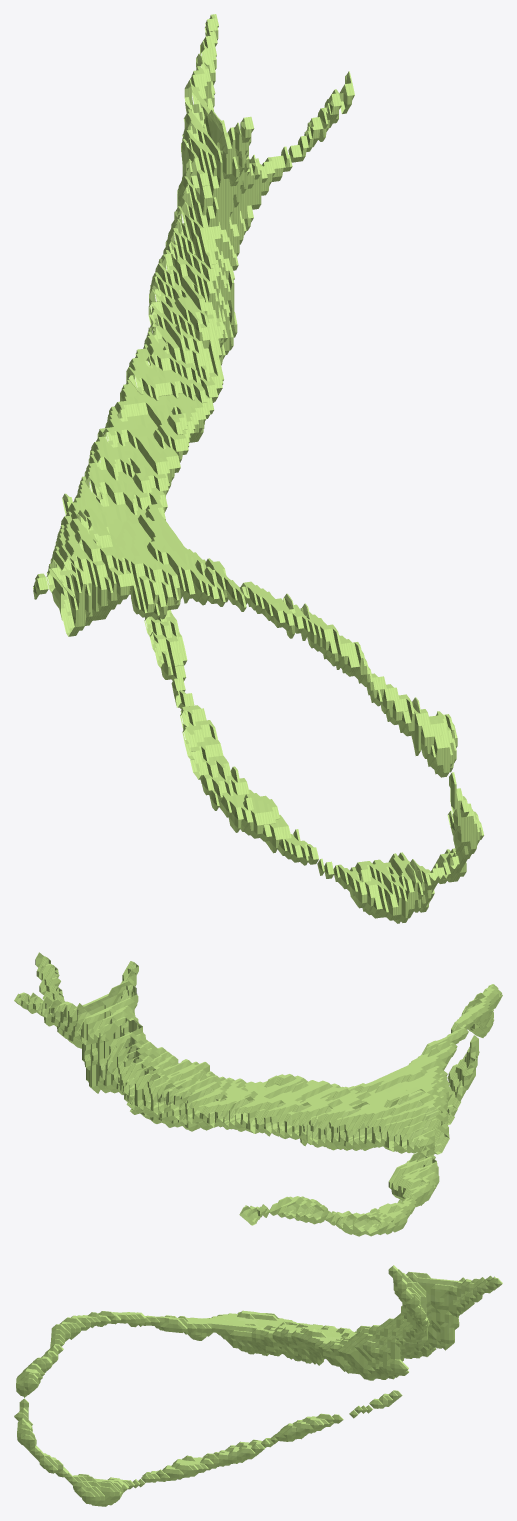
File: SVV_URAVR.gltf
3 renders of one model, top to bottom at view 1: azimuth 30°, elevation 25°; view 2: azimuth 150°, elevation 25°; view 3: azimuth 270°, elevation 25°, orthographic. The views are drawn at different scales.
Parts seen in each view (by area): view 1: URAVR; view 2: URAVR; view 3: URAVR.
Part boxes in pixels (x1,y1,x2,y2): URAVR: (33, 14, 483, 923); URAVR: (14, 952, 502, 1236); URAVR: (14, 1265, 502, 1506).
Size of the model in its own units: 38069 by 43532 by 69454.
